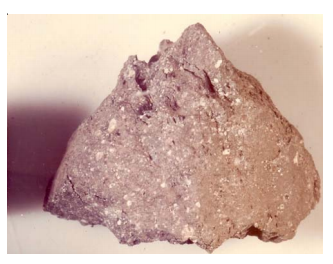Breccia: (29, 19, 313, 254), (96, 86, 275, 210)
